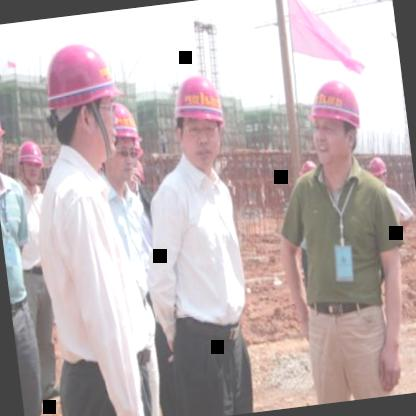helmet: (36, 30, 128, 174), (298, 71, 370, 178), (164, 65, 232, 173), (102, 99, 145, 182), (14, 132, 48, 188), (363, 147, 390, 196), (0, 91, 11, 181)
